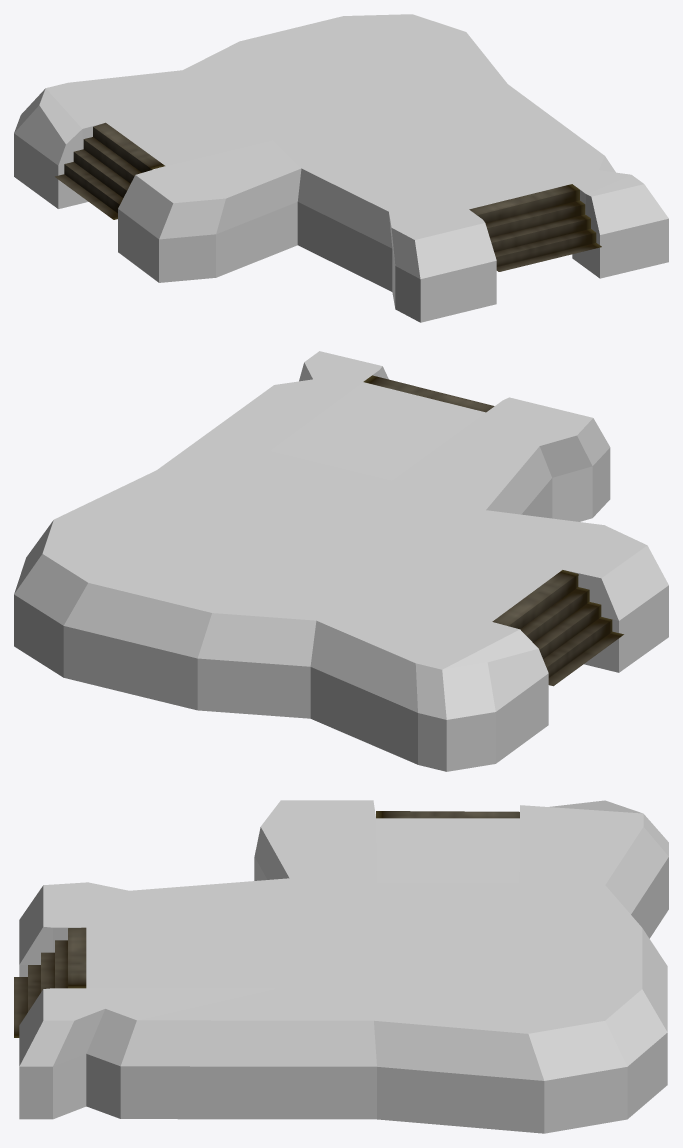
Rendered from Crypt_Ladder_Base.fbx.
3 renders of one model, top to bottom at view 1: azimuth 30°, elevation 25°; view 2: azimuth 150°, elevation 25°; view 3: azimuth 270°, elevation 25°, orthographic. The views are drawn at different scales.
Parts seen in each view (by area): view 1: Library_Ladder1.013; view 2: Library_Ladder1.013; view 3: Library_Ladder1.013.
Boxes of the visible parts, x1,y1,x2,y2 form: Library_Ladder1.013: (14,14,668,322); Library_Ladder1.013: (14,351,668,771); Library_Ladder1.013: (14,800,668,1133).
Bounding box in the file's own units: 1006 × 167 × 1092.
